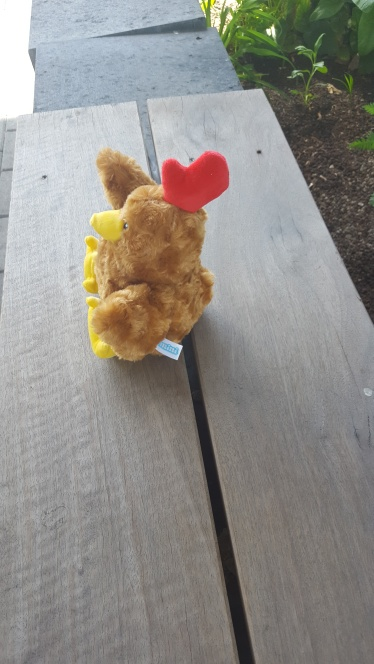chicken_right: (81, 145, 233, 364)
